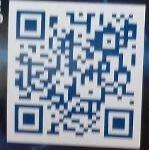qrcode: (15, 11, 138, 140)
